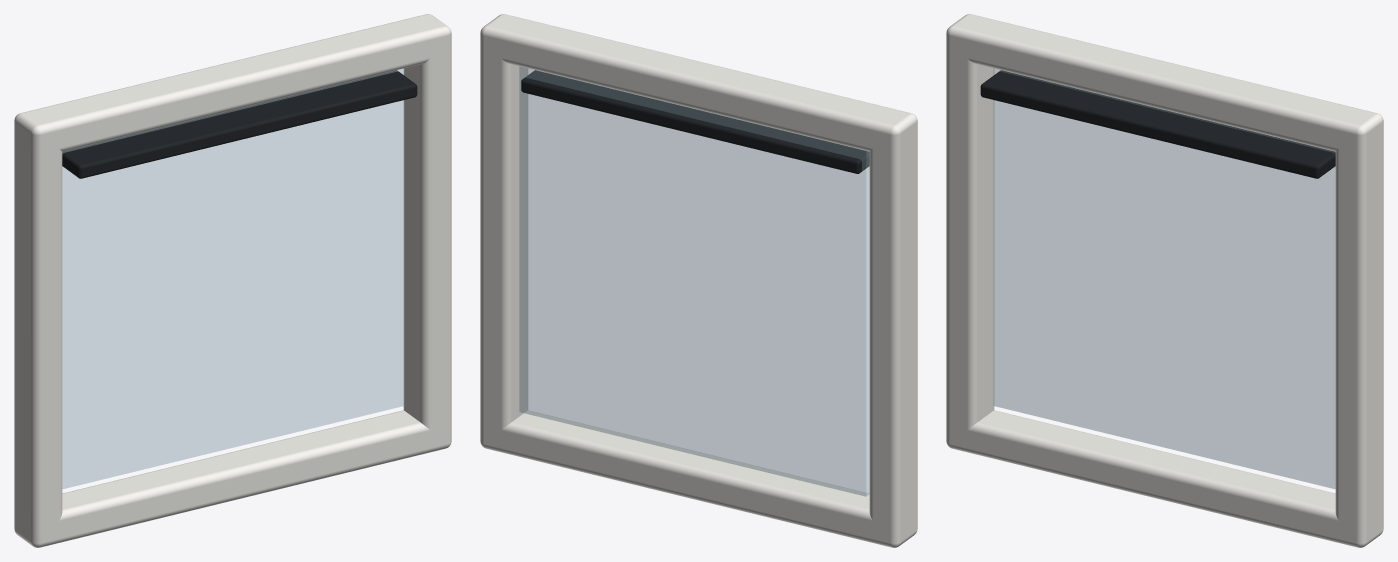
The model's file is modern-square-awning-window.optimized.glb.
3 views of the same model, side by side, from view 1: azimuth 30°, elevation 25°; view 2: azimuth 150°, elevation 25°; view 3: azimuth 330°, elevation 25° (orthographic).
Parts seen in each view (by area): view 1: square awning glass, frame top rail, top hinge reveal; view 2: square awning glass, frame top rail, top hinge reveal; view 3: square awning glass, frame top rail, top hinge reveal.
Boxes of the visible parts, <box> form: square awning glass: <box>62,68,404,488</box>; frame top rail: <box>14,14,451,547</box>; top hinge reveal: <box>62,70,417,178</box>; square awning glass: <box>519,66,869,496</box>; frame top rail: <box>480,14,917,547</box>; top hinge reveal: <box>521,70,869,173</box>; square awning glass: <box>993,68,1335,488</box>; frame top rail: <box>946,14,1383,547</box>; top hinge reveal: <box>980,70,1335,178</box>.
Size of the model in its own units: 1.04 by 1 by 0.119.
